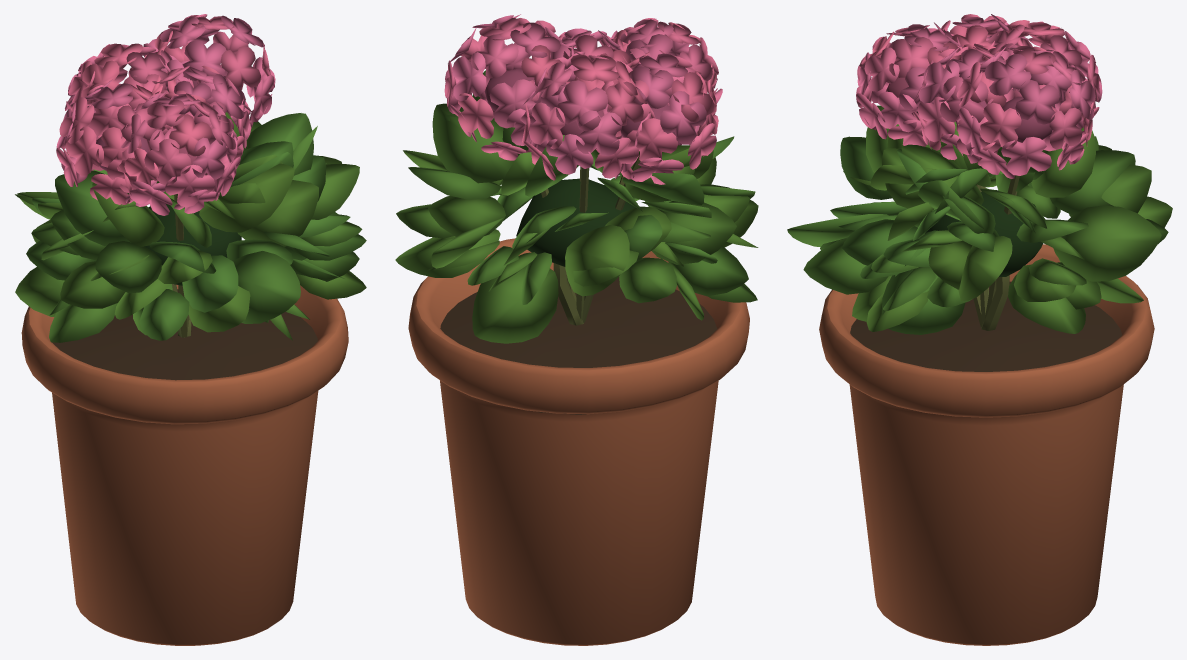
File: pot_hydrangea.glb
The picture shows the model from 3 angles, left to right: view 1: azimuth 30°, elevation 25°; view 2: azimuth 150°, elevation 25°; view 3: azimuth 270°, elevation 25°; orthographic projection. The views are drawn at different scales.
Parts seen in each view (by area): view 1: Sammel Putz, Sammel Pflanze, Sammel Blatt; view 2: Sammel Putz, Sammel Pflanze, Sammel Blatt, Sammel Stoff; view 3: Sammel Putz, Sammel Pflanze, Sammel Blatt, Sammel Stoff.
Part boxes in pixels (bbox=[...]): Sammel Putz: bbox=[21, 194, 348, 645]; Sammel Pflanze: bbox=[15, 14, 366, 342]; Sammel Blatt: bbox=[144, 204, 241, 285]; Sammel Putz: bbox=[408, 152, 749, 645]; Sammel Pflanze: bbox=[395, 14, 758, 343]; Sammel Blatt: bbox=[516, 178, 637, 266]; Sammel Stoff: bbox=[484, 68, 675, 148]; Sammel Putz: bbox=[819, 175, 1154, 645]; Sammel Pflanze: bbox=[787, 14, 1172, 334]; Sammel Blatt: bbox=[925, 190, 1043, 276]; Sammel Stoff: bbox=[886, 77, 1055, 142].
Size of the model in its own units: 0.5325 by 0.902 by 0.5504.
